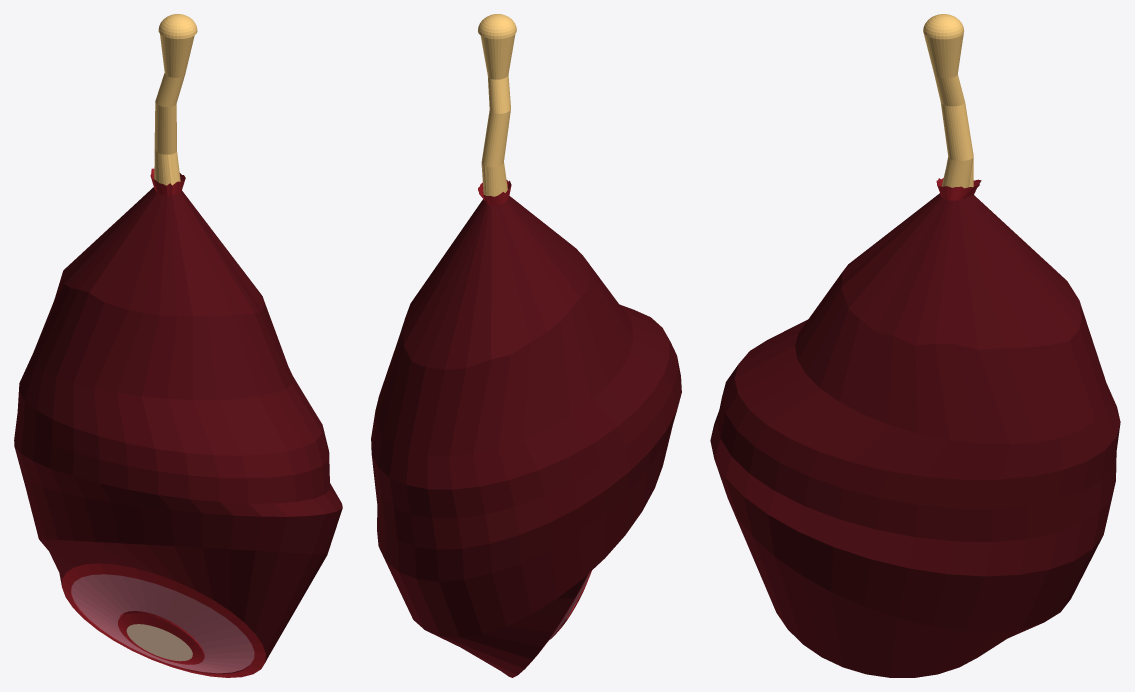
File: stuk been.fbx
3 views of the same model, side by side, from view 1: azimuth 30°, elevation 25°; view 2: azimuth 150°, elevation 25°; view 3: azimuth 270°, elevation 25° (orthographic). The views are drawn at different scales.
Parts seen in each view (by area): view 1: Sphere; view 2: Sphere; view 3: Sphere.
Boxes of the visible parts, left/top/right/bottom form: Sphere: left=14, top=14, right=342, bottom=677; Sphere: left=371, top=14, right=681, bottom=677; Sphere: left=710, top=14, right=1120, bottom=677.
Size of the model in its own units: 87.02 by 216 by 121.
